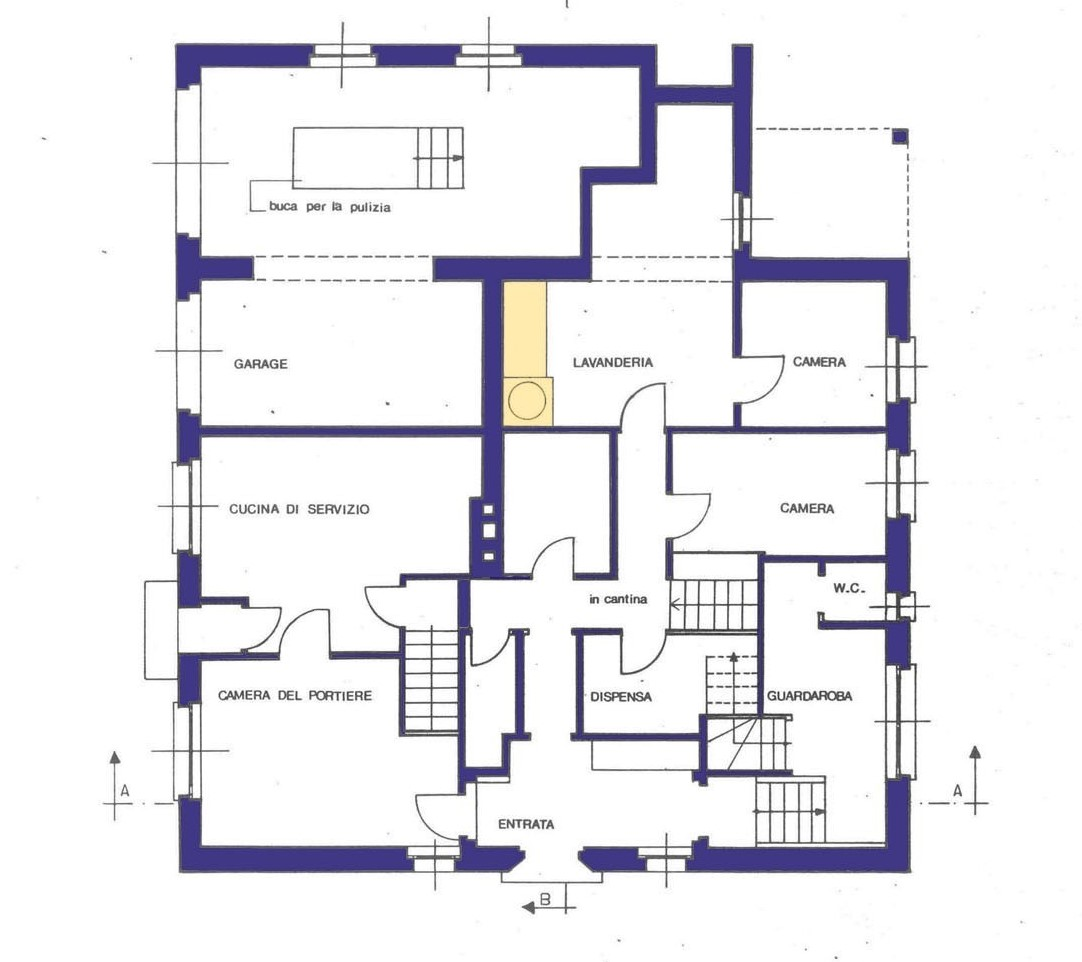room: (182, 647, 466, 873), (482, 257, 744, 437), (665, 426, 913, 552), (734, 257, 909, 425), (571, 628, 765, 740), (485, 425, 622, 579)
